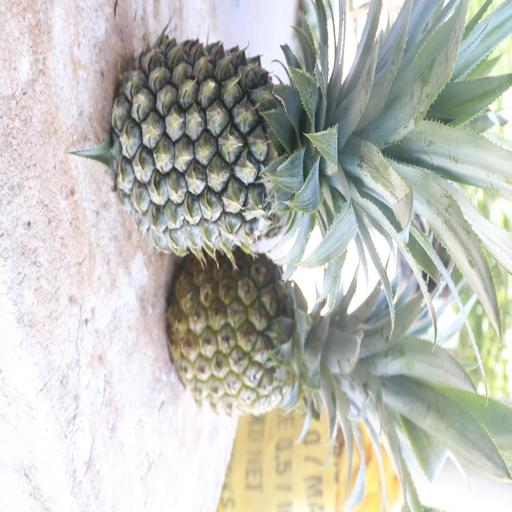------------------------------: (161, 236, 397, 425)
